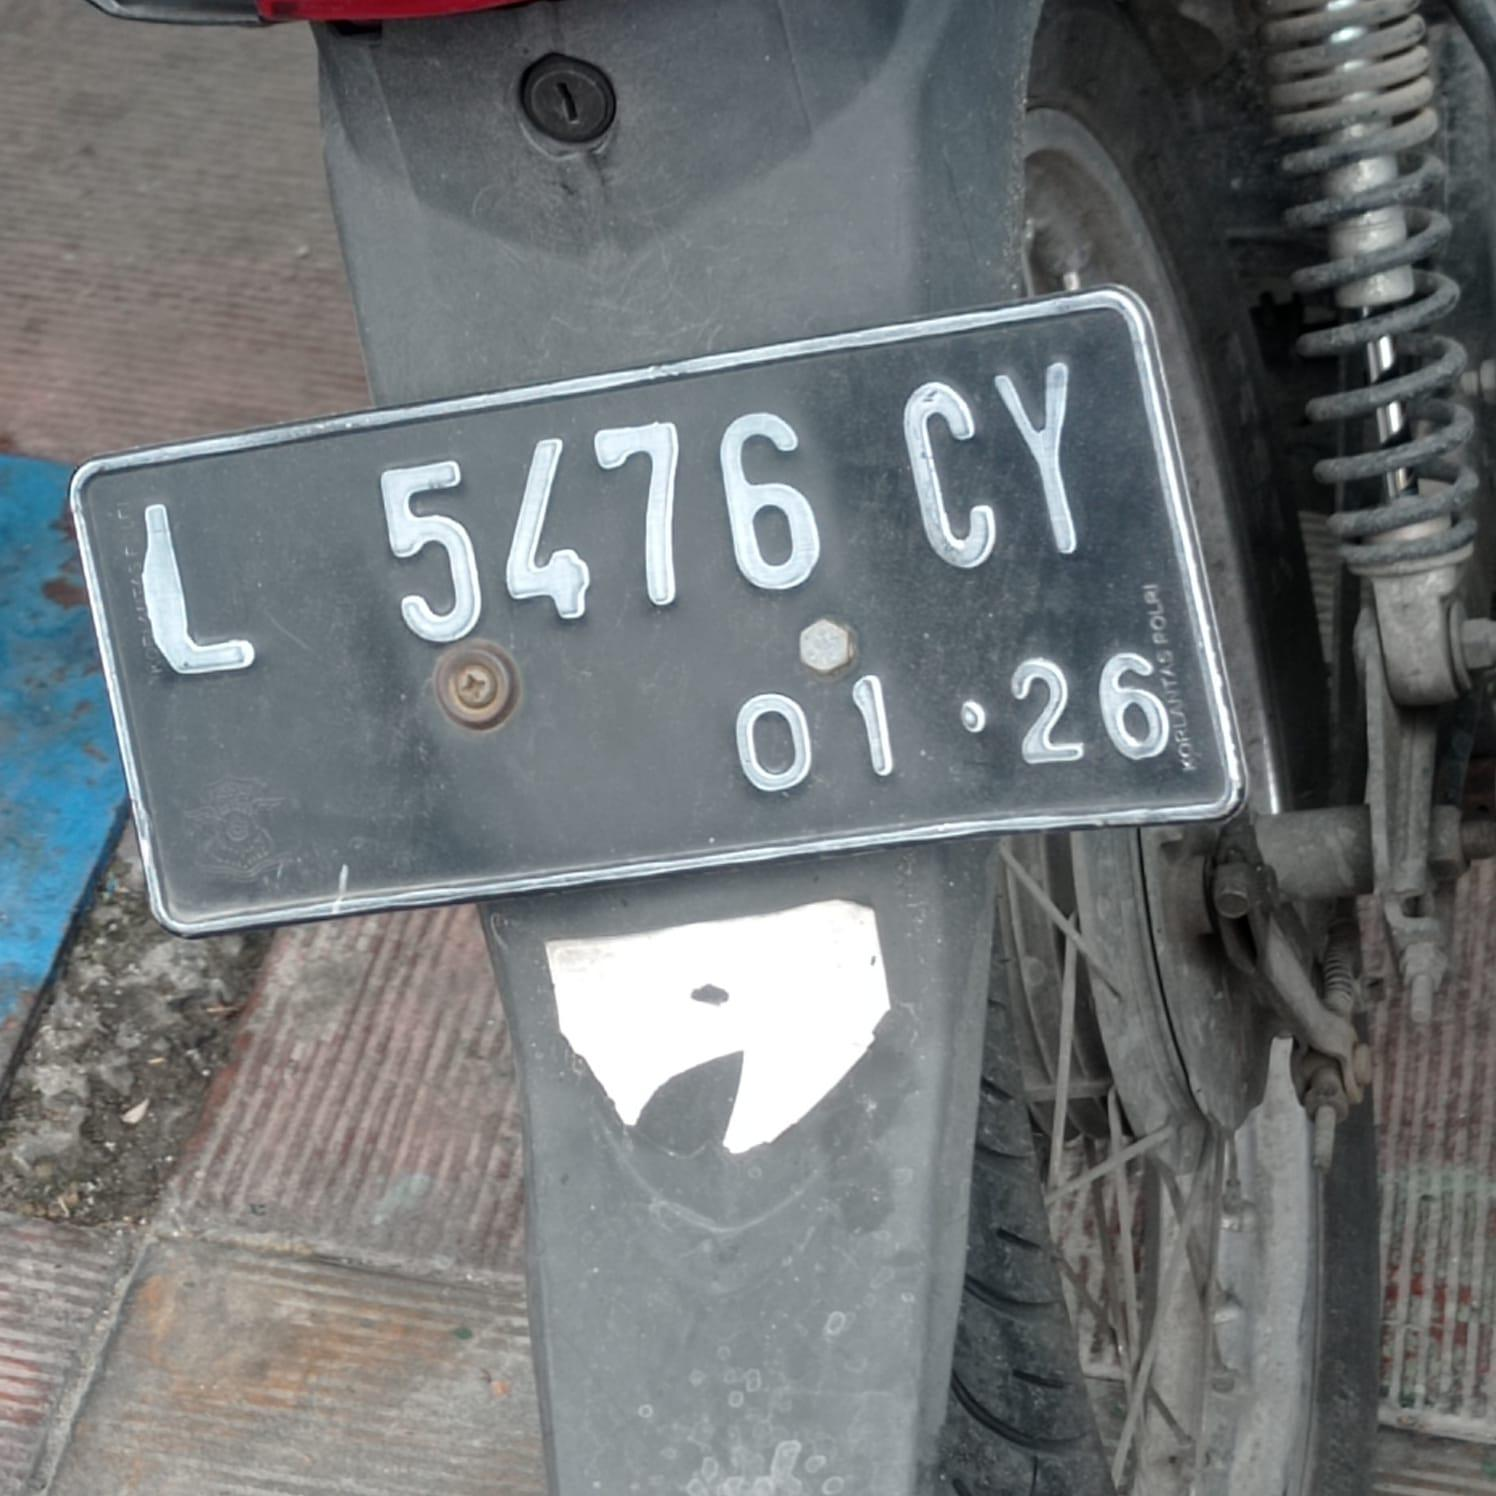plat: (70, 289, 1245, 934)
